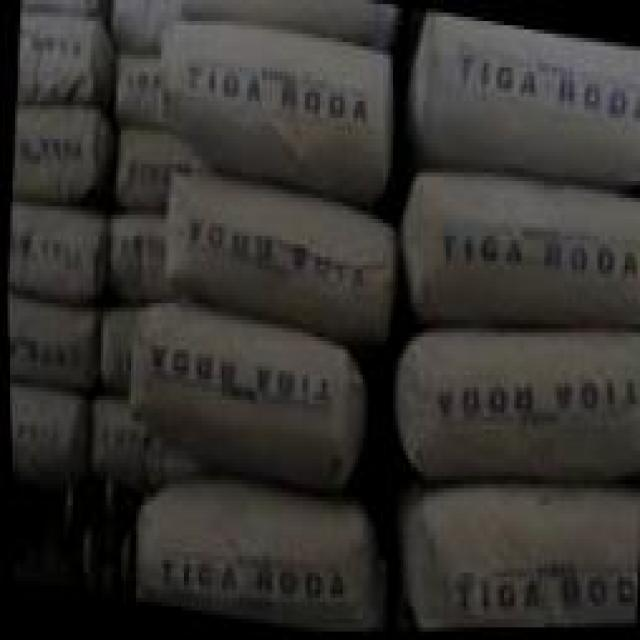gunny_bag: (413, 174, 640, 320), (162, 170, 377, 324), (434, 17, 640, 172), (174, 27, 379, 181), (133, 319, 342, 467), (420, 498, 639, 632), (425, 340, 640, 474), (143, 501, 351, 627), (7, 208, 95, 288), (8, 383, 86, 473), (11, 113, 99, 187), (17, 13, 96, 86)
